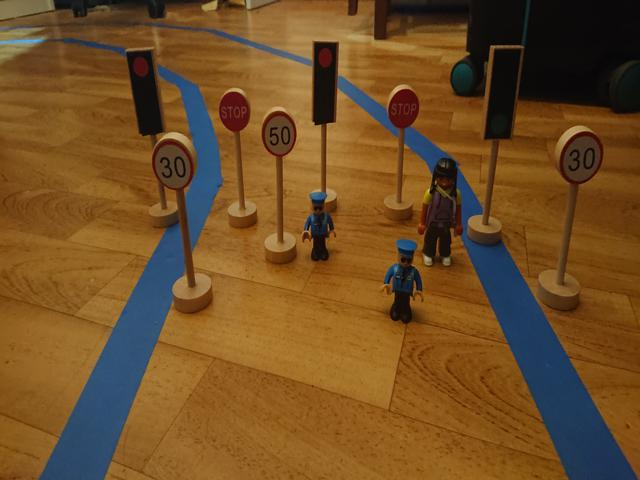30 speed sign: (558, 132, 603, 186), (151, 142, 195, 192)
50 speed sign: (262, 111, 297, 158)
green light: (487, 50, 515, 140)
person: (418, 157, 464, 270), (376, 238, 422, 322), (300, 189, 339, 263)
red light: (130, 53, 158, 130), (313, 43, 334, 123)
stop sign: (387, 88, 420, 128), (218, 91, 250, 131)
